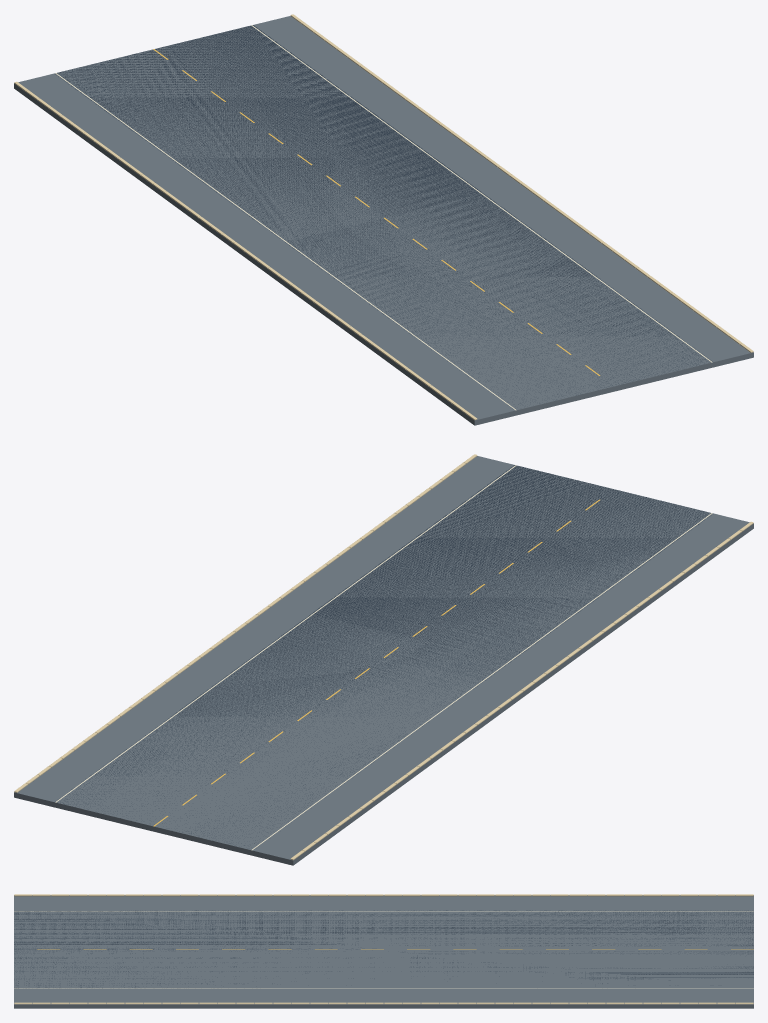
File: straight-road.glb
The picture shows the model from 3 angles, top to bottom: view 1: azimuth 30°, elevation 25°; view 2: azimuth 150°, elevation 25°; view 3: azimuth 270°, elevation 25°; orthographic projection. The views are drawn at different scales.
Parts seen in each view (by area): view 1: RoadFoundation, Asphalt, SolidEdgeLine (×2); view 2: RoadFoundation, Asphalt, SolidEdgeLine (×2); view 3: RoadFoundation, Asphalt, SolidEdgeLine (×2).
Part boxes in pixels (x1=…): RoadFoundation: x1=14, y1=16, x2=753, y2=425; Asphalt: x1=55, y1=25, x2=712, y2=408; SolidEdgeLine (×2): x1=55, y1=25, x2=712, y2=410; RoadFoundation: x1=14, y1=456, x2=753, y2=865; Asphalt: x1=58, y1=465, x2=713, y2=845; SolidEdgeLine (×2): x1=55, y1=465, x2=712, y2=850; RoadFoundation: x1=14, y1=895, x2=753, y2=1008; Asphalt: x1=14, y1=910, x2=753, y2=988; SolidEdgeLine (×2): x1=14, y1=911, x2=753, y2=988.
Size of the model in its own units: 56 by 1.22 by 160.
